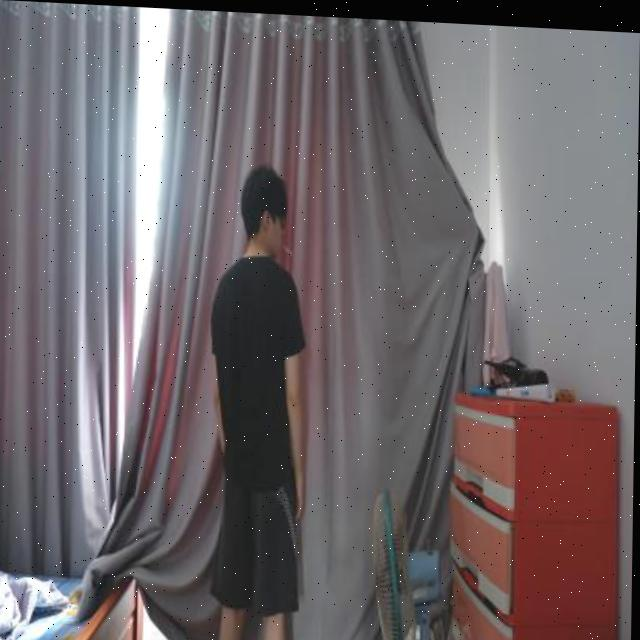cigarette: (281, 240, 293, 254)
